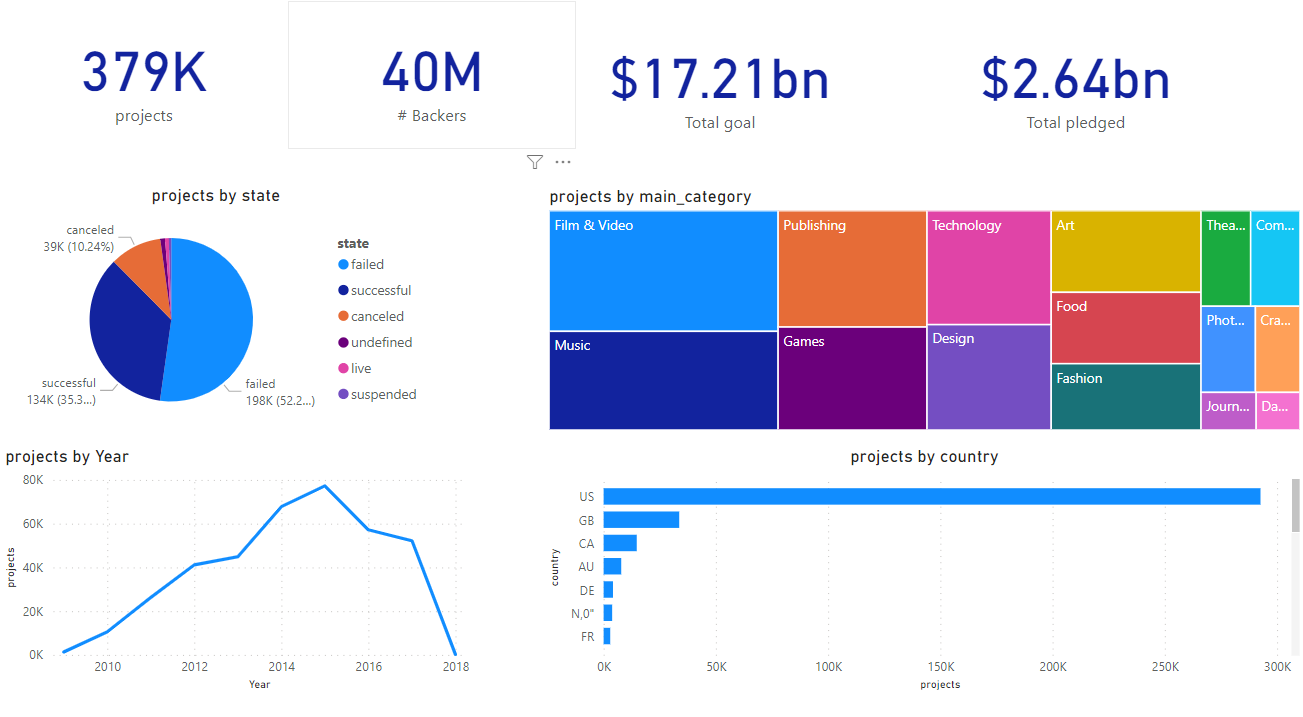

This screenshot's page, from the dashboard's own definition file:
{"tool":"powerbi","page":{"name":"Page 1","canvas":[1280,720],"ordinal":0},"visuals":[{"type":"card","fields":{"Values":["KS-Projects.projects"]},"box":[0,14.6,280.1,144],"z":0},{"type":"card","fields":{"Values":["KS-Projects.# Backers"]},"box":[280.1,14.6,280.1,144],"z":1000},{"type":"card","fields":{"Values":["KS-Projects.Total goal"]},"box":[560.2,21.4,280.1,144],"z":2000},{"type":"card","fields":{"Values":["KS-Projects.Total pledged"]},"box":[906.5,21.4,280.1,144],"z":3000},{"type":"pieChart","fields":{"Category":["KS-Projects.state"],"Y":["KS-Projects.projects"]},"box":[0,193.6,420.2,243.2],"z":4000},{"type":"treemap","fields":{"Group":["KS-Projects.category","KS-Projects.main_category"],"Values":["KS-Projects.projects"]},"box":[529.1,194.5,740.2,242.2],"z":5000},{"type":"lineChart","fields":{"Category":["KS-Projects.launched.Variation.Date Hierarchy.Year","KS-Projects.launched.Variation.Date Hierarchy.Quarter","KS-Projects.launched.Variation.Date Hierarchy.Month","KS-Projects.launched.Variation.Date Hierarchy.Day"],"Y":["KS-Projects.projects"]},"box":[0,447.4,461,242.2],"z":6000},{"type":"barChart","fields":{"Category":["KS-Projects.country"],"Y":["KS-Projects.projects"]},"box":[529,447,740,242],"z":7000}]}

Visuals, with their boxes in screenshot pixels (x1, y1, x2, y2), scaled from the page's 1280x720 canvas onto the 1303x717 screenshot:
card - KS-Projects.projects: (0, 15, 285, 158)
card - KS-Projects.# Backers: (285, 15, 570, 158)
card - KS-Projects.Total goal: (570, 21, 855, 165)
card - KS-Projects.Total pledged: (923, 21, 1208, 165)
pieChart - KS-Projects.state x KS-Projects.projects: (0, 193, 428, 435)
treemap - KS-Projects.category x KS-Projects.main_category: (539, 194, 1292, 435)
lineChart - KS-Projects.launched.Variation.Date Hierarchy.Year x KS-Projects.launched.Variation.Date Hierarchy.Quarter: (0, 446, 469, 687)
barChart - KS-Projects.country x KS-Projects.projects: (539, 445, 1292, 686)
